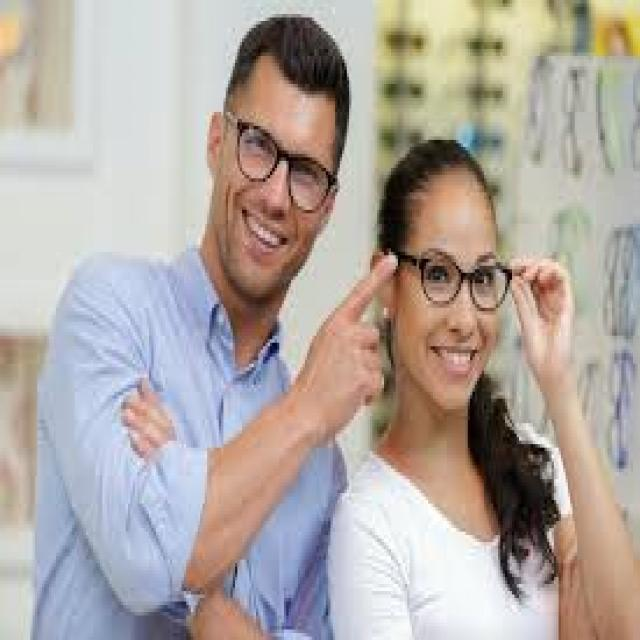Glasses: (226, 110, 336, 218), (397, 246, 514, 313)
